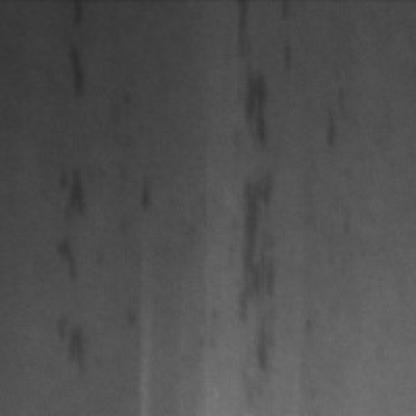inclusion: (239, 168, 287, 370), (50, 150, 102, 288), (239, 62, 281, 156), (62, 13, 96, 108), (58, 312, 102, 380), (322, 81, 356, 160)
